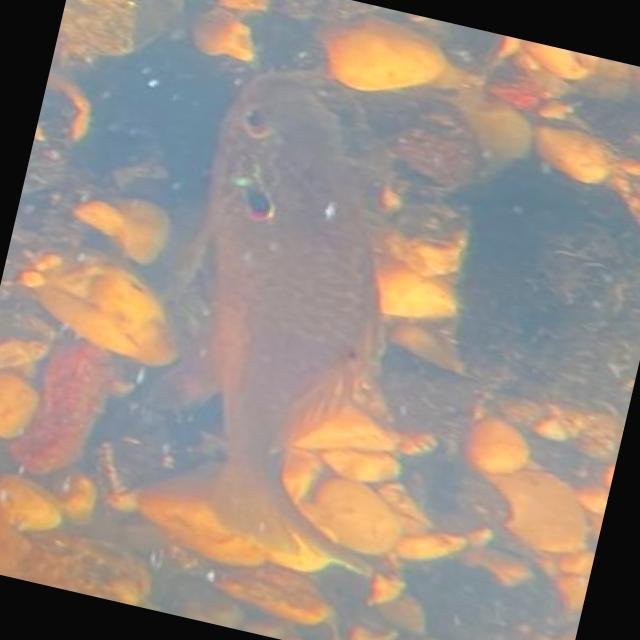Gunes Levregi: (108, 53, 494, 580)
